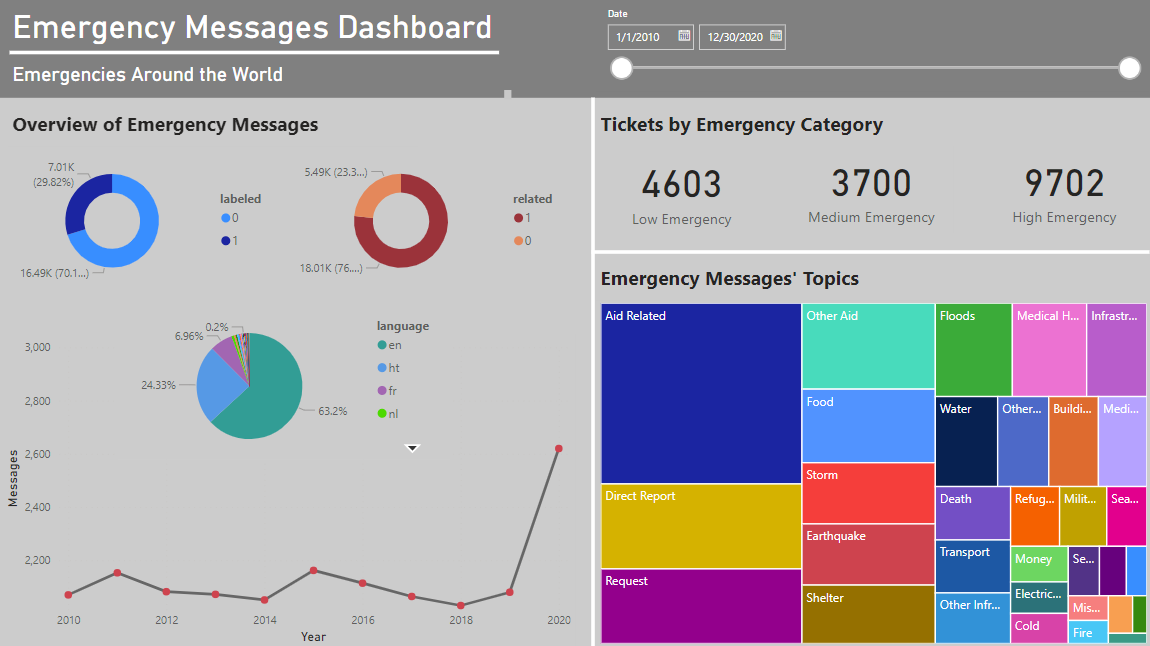

What the dashboard file says about the page in this screenshot:
{"tool":"powerbi","page":{"name":"Page 1","canvas":[1280,720],"ordinal":0},"visuals":[{"type":"shape","box":[0,0,1280,720],"z":0},{"type":"shape","box":[0,0,1280,108.3],"z":1000},{"type":"textbox","title":"Emergency Messages Dashboard","box":[10,8.3,563.3,75],"z":2000},{"type":"lineChart","title":"Messages by Year","fields":{"Category":["HistoricalMart.date.Variation.Date Hierarchy.Year","HistoricalMart.date.Variation.Date Hierarchy.Quarter","HistoricalMart.date.Variation.Date Hierarchy.Month","HistoricalMart.date.Variation.Date Hierarchy.Day"],"Y":["CountNonNull(HistoricalMart.ID)"]},"box":[1.7,371.7,638.3,348.3],"z":3000},{"type":"pieChart","fields":{"Category":["HistoricalMart.language"],"Y":["CountNonNull(HistoricalMart.ID)"]},"box":[132,346,370,164],"z":4000},{"type":"donutChart","fields":{"Category":["HistoricalMart.related"],"Y":["CountNonNull(HistoricalMart.ID)"]},"box":[316.7,171.9,323.3,146.7],"z":5000},{"type":"donutChart","fields":{"Y":["CountNonNull(HistoricalMart.ID)"],"Category":["HistoricalMart.labeled"]},"box":[0,171.9,316.7,146.7],"z":6000},{"type":"slicer","fields":{"Values":["HistoricalMart.date"]},"box":[664,4,614,98],"z":7000},{"type":"shape","box":[625,109,70,611],"z":8000},{"type":"shape","box":[658.3,250,620,60],"z":9000},{"type":"card","fields":{"Values":["CountNonNull(HistoricalMart.ID)"]},"box":[663.3,160.2,190,100],"z":10000},{"type":"card","fields":{"Values":["CountNonNull(HistoricalMart.ID)"]},"box":[878.3,158.6,181.7,100],"z":11000},{"type":"card","fields":{"Values":["CountNonNull(HistoricalMart.ID)"]},"box":[1088.3,158.6,190,100],"z":12000},{"type":"treemap","fields":{"Values":["Sum(HistoricalMart.aid_centers)","Sum(HistoricalMart.aid_related)","Sum(HistoricalMart.buildings)","Sum(HistoricalMart.clothing)","Sum(HistoricalMart.cold)","Sum(HistoricalMart.death)","Sum(HistoricalMart.direct_report)","Sum(HistoricalMart.earthquake)","Sum(HistoricalMart.electricity)","Sum(HistoricalMart.floods)","Sum(HistoricalMart.fire)","Sum(HistoricalMart.food)"]},"box":[663.3,331.7,616.7,388.3],"z":13000},{"type":"shape","box":[12,28,544,60],"z":14000},{"type":"textbox","title":"Emergencies Around the World","box":[10,70,564,46],"z":15000},{"type":"textbox","box":[10,115.8,455,45.8],"z":16000},{"type":"textbox","box":[663.3,116.7,455,45],"z":17000},{"type":"textbox","box":[663.3,288.3,455,45],"z":17001}]}

Visuals, with their boxes in screenshot pixels (x1, y1, x2, y2), scaled from the page's 1280x720 canvas onto the 1150x646 screenshot:
shape: <region>0, 0, 1149, 645</region>
shape: <region>0, 0, 1149, 97</region>
"Emergency Messages Dashboard" textbox: <region>9, 7, 515, 75</region>
"Messages by Year" lineChart: <region>2, 333, 575, 645</region>
pieChart - HistoricalMart.language x CountNonNull(HistoricalMart.ID): <region>119, 310, 451, 458</region>
donutChart - HistoricalMart.related x CountNonNull(HistoricalMart.ID): <region>285, 154, 575, 286</region>
donutChart - CountNonNull(HistoricalMart.ID) x HistoricalMart.labeled: <region>0, 154, 285, 286</region>
slicer - HistoricalMart.date: <region>597, 4, 1148, 92</region>
shape: <region>562, 98, 624, 645</region>
shape: <region>591, 224, 1148, 278</region>
card - CountNonNull(HistoricalMart.ID): <region>596, 144, 767, 233</region>
card - CountNonNull(HistoricalMart.ID): <region>789, 142, 952, 232</region>
card - CountNonNull(HistoricalMart.ID): <region>978, 142, 1148, 232</region>
treemap - Sum(HistoricalMart.aid_centers) x Sum(HistoricalMart.aid_related): <region>596, 298, 1149, 645</region>
shape: <region>11, 25, 500, 79</region>
"Emergencies Around the World" textbox: <region>9, 63, 516, 104</region>
textbox: <region>9, 104, 418, 145</region>
textbox: <region>596, 105, 1005, 145</region>
textbox: <region>596, 259, 1005, 299</region>
